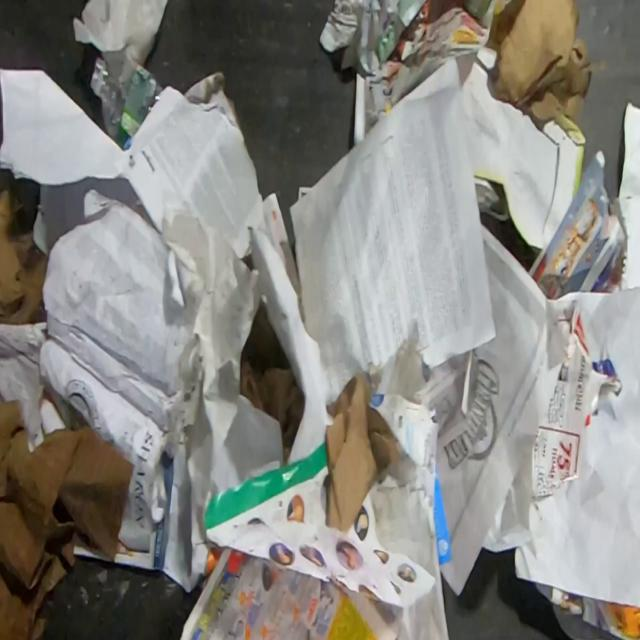cardboard: (0, 397, 137, 639), (456, 46, 587, 254), (526, 148, 626, 301), (484, 0, 606, 124), (326, 370, 400, 536), (240, 302, 305, 451), (0, 171, 48, 327)
rigid_plastic: (89, 56, 164, 152)
